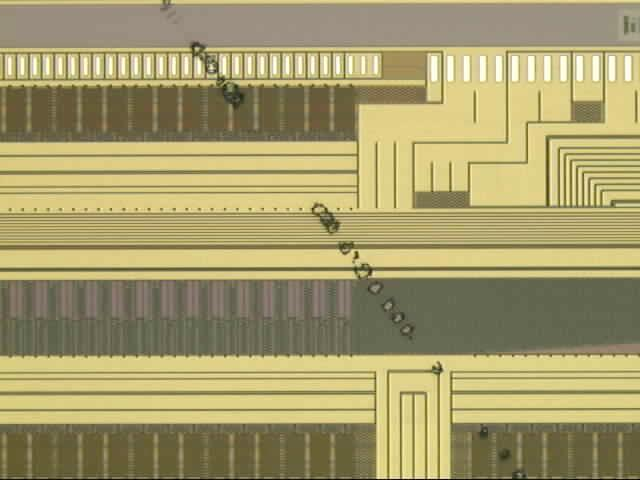SCRATCH: (155, 1, 535, 480)
